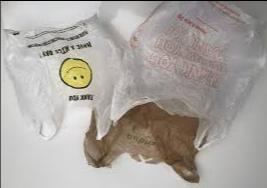Plastic: (110, 1, 266, 139)
